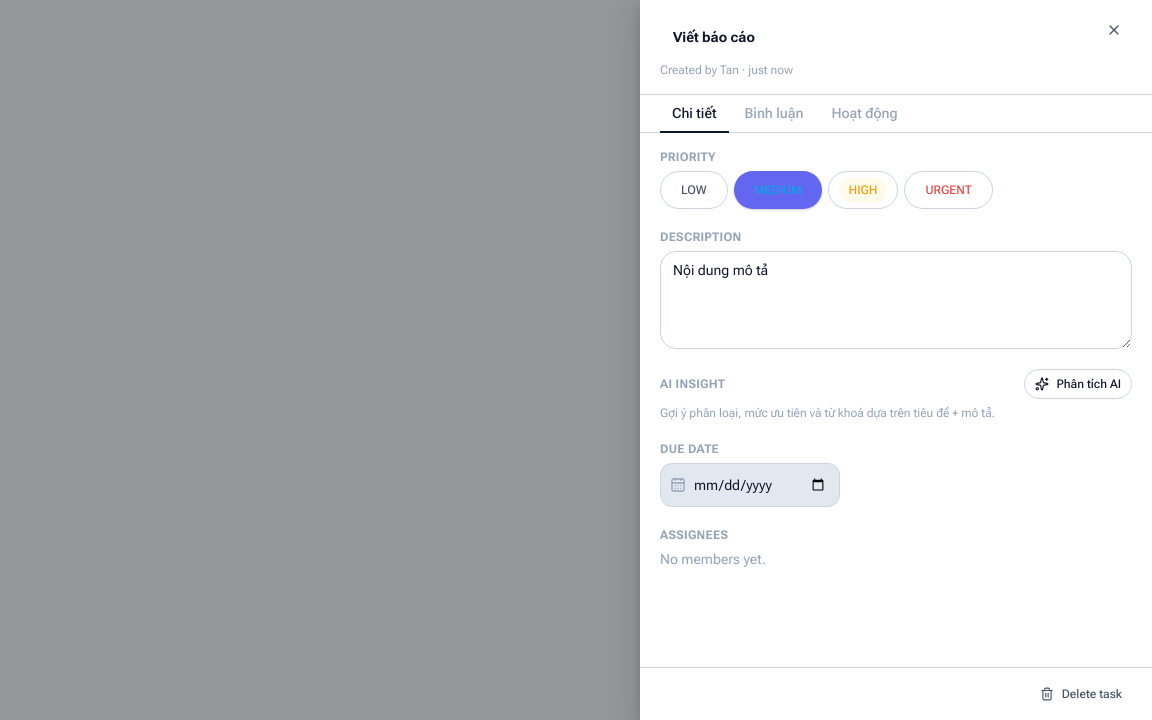
Test: TaskDetail tabs › shows the comments pane when its tab is selected
What coordinates should you click on to do the following:
click the tab "Bình luận"
I would click on:
 (774, 114)
Its box is [732,95,815,133].
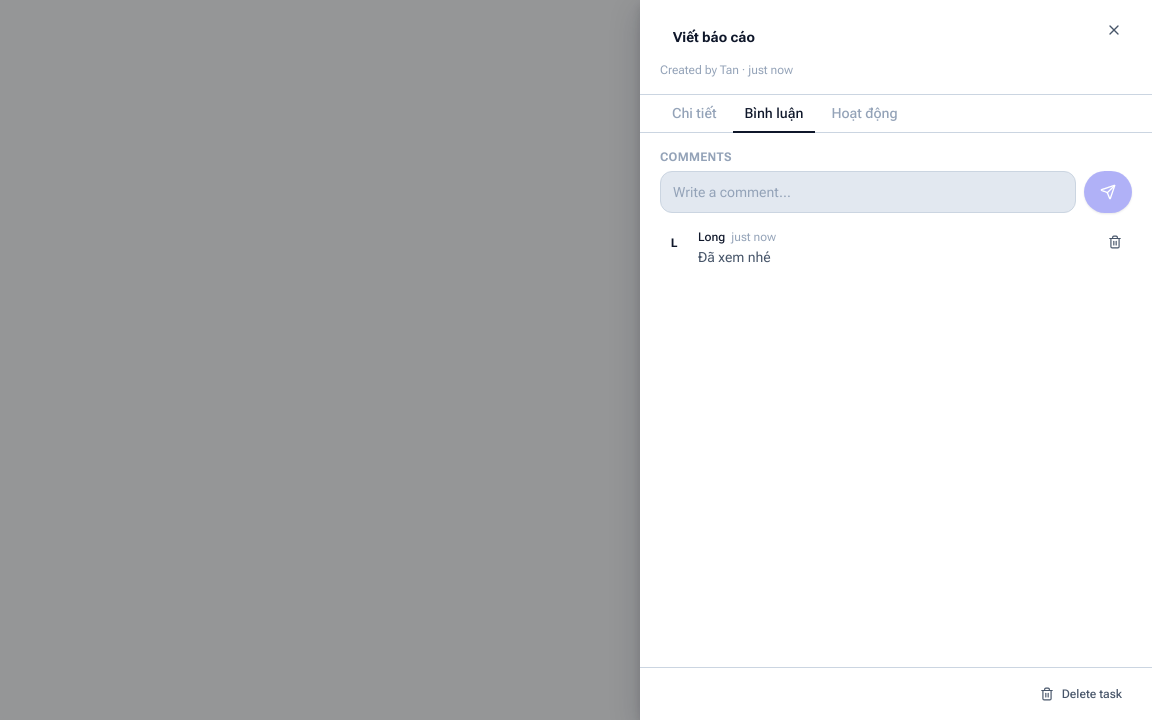
Expected: the text "Nội dung mô tả" is not shown
Now the text "Đã xem nhé" is shown, box [698,249,771,265]
Now the field labelled "Write a comment…" is shown, box [660,171,1076,213]
